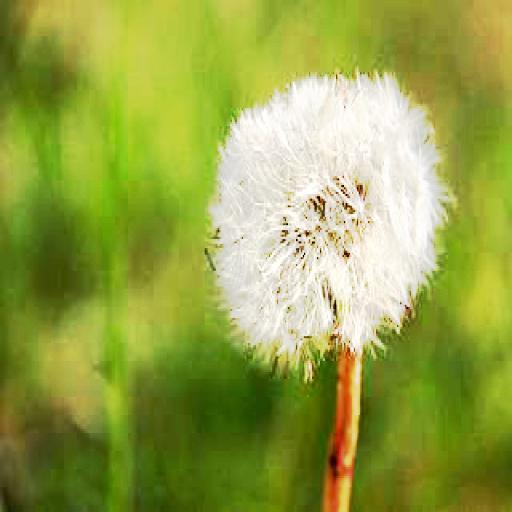dandelion: (211, 68, 448, 370)
